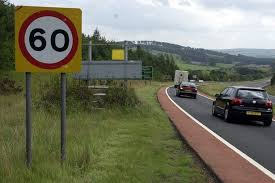Speed_limit_60km: (18, 9, 79, 69)
